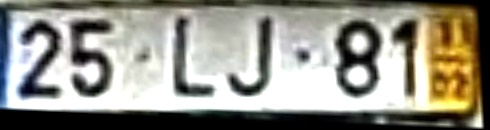1: (388, 17, 422, 104)
2: (14, 17, 68, 106)
5: (63, 17, 119, 104)
8: (328, 15, 388, 101)
J: (222, 13, 278, 102)
L: (171, 15, 219, 102)
